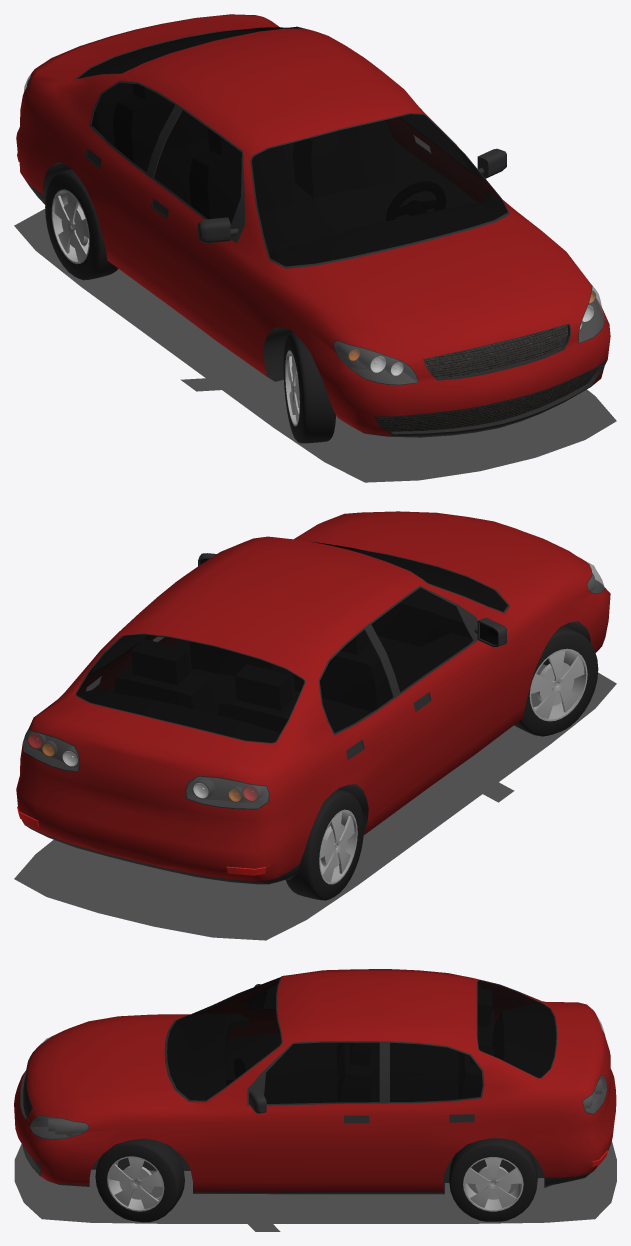
The model's file is sedan.glb.
3 renders of one model, top to bottom at view 1: azimuth 30°, elevation 25°; view 2: azimuth 150°, elevation 25°; view 3: azimuth 270°, elevation 25°, orthographic. The views are drawn at different scales.
Parts seen in each view (by area): view 1: CarBody, Shadow, WheelRR, WheelFR, SteeringWheel; view 2: CarBody, Shadow, WheelFR, WheelRR; view 3: CarBody, Shadow, WheelRL, WheelFL.
Boxes of the visible parts, box(x1,y1,x2,y2) form: CarBody: box(16, 14, 610, 437); Shadow: box(14, 209, 616, 482); WheelRR: box(45, 169, 118, 280); WheelFR: box(283, 332, 335, 443); SteeringWheel: box(386, 182, 445, 220); CarBody: box(16, 511, 610, 884); Shadow: box(14, 664, 616, 940); WheelFR: box(514, 625, 598, 736); WheelRR: box(286, 789, 363, 900); CarBody: box(14, 969, 616, 1194); Shadow: box(14, 1141, 616, 1231); WheelRL: box(449, 1138, 537, 1221); WheelFL: box(95, 1138, 184, 1222).
Bounding box in the file's own units: 4.77 × 3.21 × 9.92.
12 materials, 1 textured.
